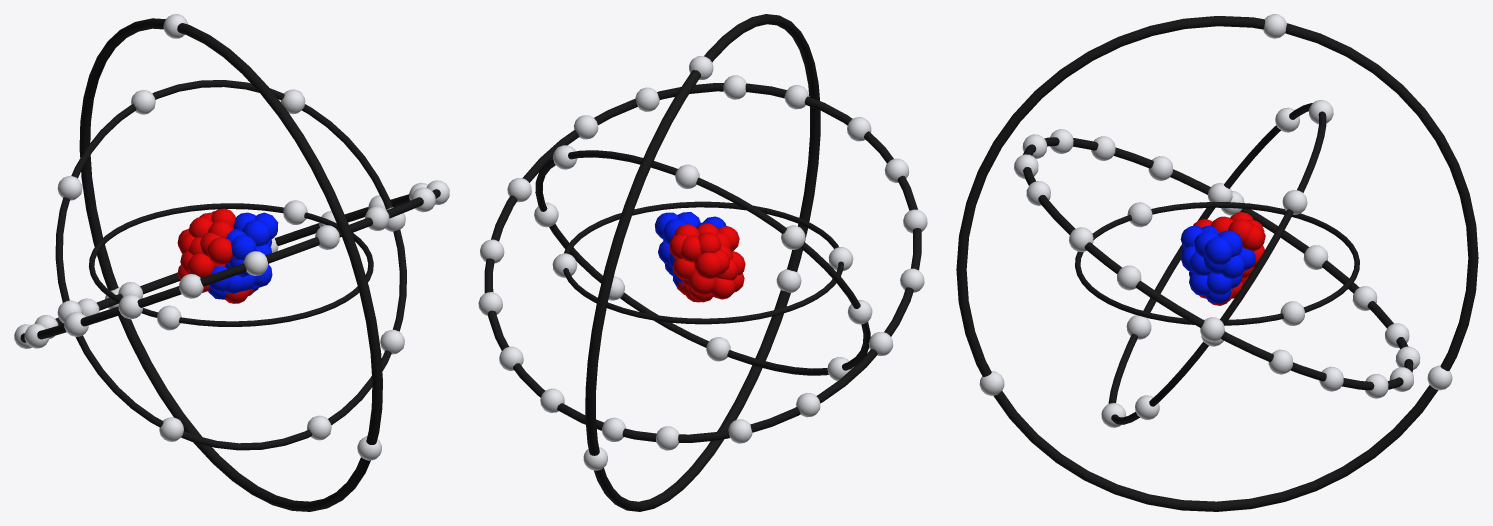
Rendered from 31 Galio.fbx.
The picture shows the model from 3 angles, left to right: view 1: azimuth 30°, elevation 25°; view 2: azimuth 150°, elevation 25°; view 3: azimuth 270°, elevation 25°; orthographic projection.
Visible parts, largest first — view 1: Orbita.004, Orbita.002, Orbita.003, Orbita.001, Neutron.006, Sphere.035, Sphere.013, Electron.001, Electron.028, Electron.012; view 2: Orbita.004, Orbita.003, Orbita.002, Orbita.001, Neutron.006, Neutron.005, Neutron.002; view 3: Orbita.004, Orbita.003, Orbita.002, Orbita.001, Neutron.006, Neutron.003.
Boxes of the visible parts, left/top/right/bottom form: Orbita.004: left=79, top=18, right=382, bottom=511; Orbita.002: left=55, top=80, right=406, bottom=450; Orbita.003: left=20, top=189, right=440, bottom=342; Orbita.001: left=89, top=203, right=373, bottom=326; Neutron.006: left=234, top=212, right=278, bottom=246; Sphere.035: left=207, top=237, right=232, bottom=264; Sphere.013: left=187, top=253, right=214, bottom=278; Electron.001: left=157, top=305, right=181, bottom=330; Electron.028: left=179, top=274, right=203, bottom=298; Electron.012: left=243, top=251, right=267, bottom=275; Orbita.004: left=585, top=14, right=820, bottom=511; Orbita.003: left=484, top=83, right=921, bottom=442; Orbita.002: left=535, top=150, right=870, bottom=375; Orbita.001: left=563, top=201, right=843, bottom=324; Neutron.006: left=655, top=212, right=700, bottom=244; Neutron.005: left=694, top=245, right=732, bottom=278; Neutron.002: left=681, top=271, right=715, bottom=302; Orbita.004: left=956, top=16, right=1478, bottom=511; Orbita.003: left=1023, top=137, right=1413, bottom=390; Orbita.002: left=1108, top=103, right=1326, bottom=424; Orbita.001: left=1075, top=202, right=1359, bottom=325; Neutron.006: left=1194, top=230, right=1242, bottom=274; Neutron.003: left=1205, top=272, right=1242, bottom=303.
Size of the model in its own units: 14.18 by 12.43 by 14.14.
